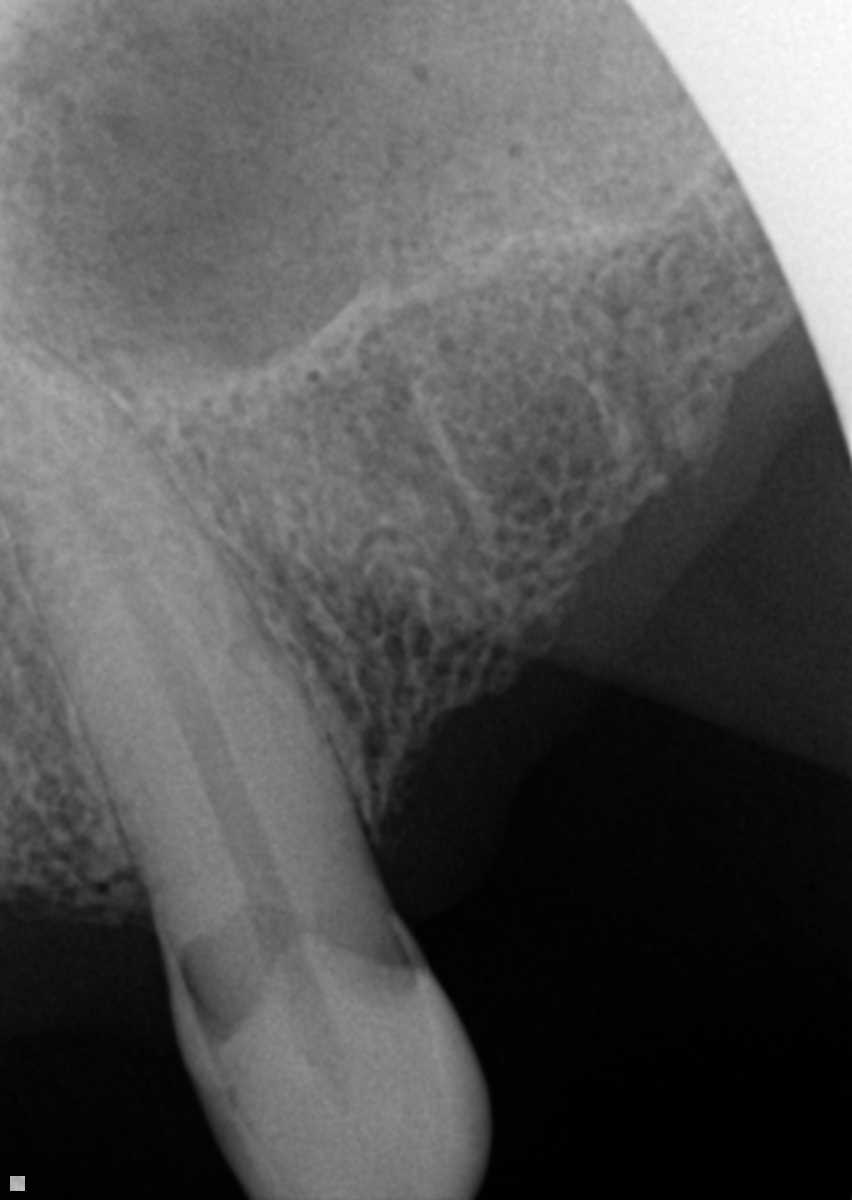Main Canal: (0, 366, 265, 852)
Main Root: (0, 316, 359, 903)
decay: (181, 906, 299, 1051), (312, 855, 409, 1011)
